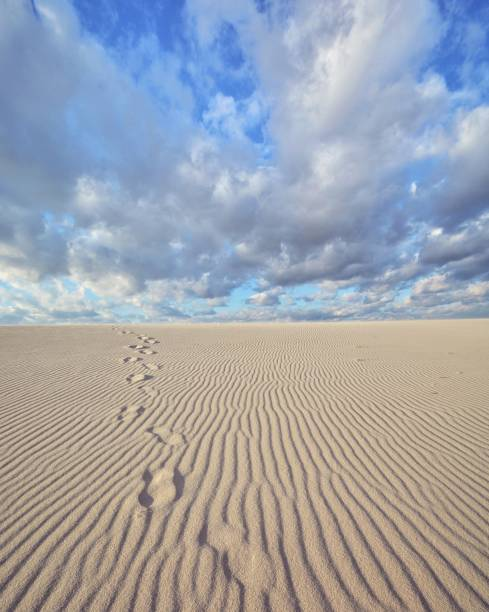human_footprint: (200, 518, 262, 594), (138, 467, 184, 511), (147, 424, 186, 445), (118, 403, 145, 420), (126, 373, 152, 382)
